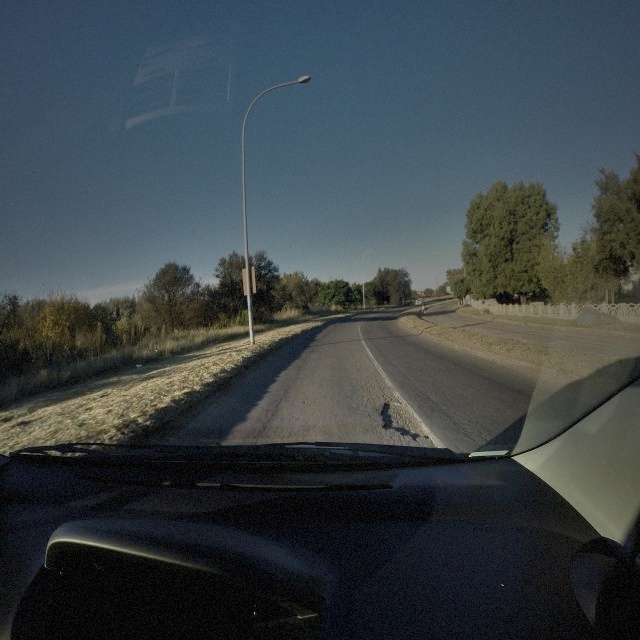pothole: (379, 394, 432, 442)
